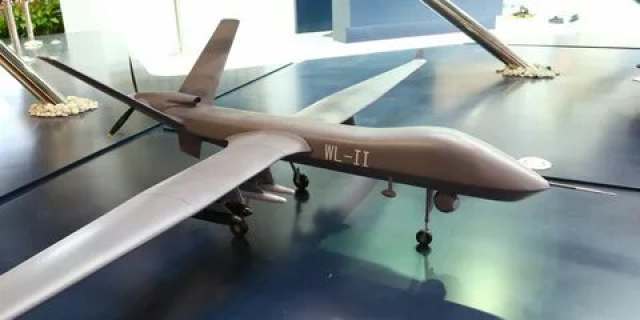military drone: (0, 19, 616, 320)
